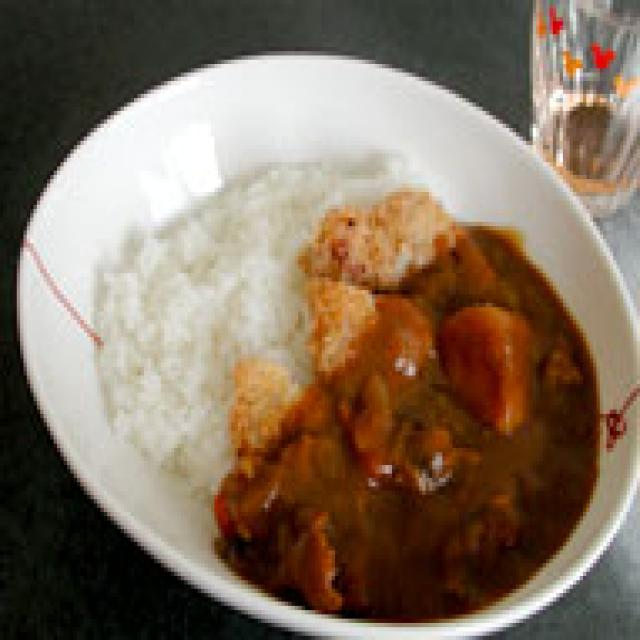猪肉菜式: (0, 17, 640, 640)
